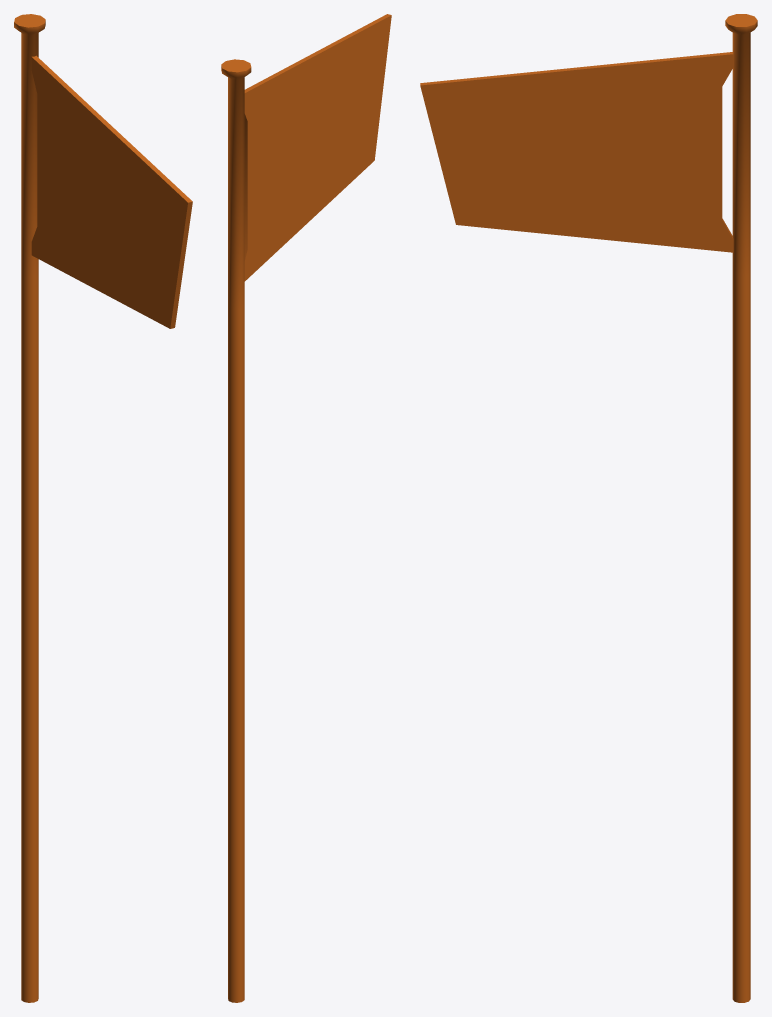
File: flag.fbx
3 views of the same model, side by side, from view 1: azimuth 30°, elevation 25°; view 2: azimuth 150°, elevation 25°; view 3: azimuth 270°, elevation 25° (orthographic). The views are drawn at different scales.
Parts seen in each view (by area): view 1: flag; view 2: flag; view 3: flag.
Boxes of the visible parts, box(x1,y1,x2,y2) form: flag: box(14, 14, 192, 1002); flag: box(221, 14, 391, 1002); flag: box(420, 14, 757, 1002).
Size of the model in its own units: 5.19 by 182 by 56.89.
